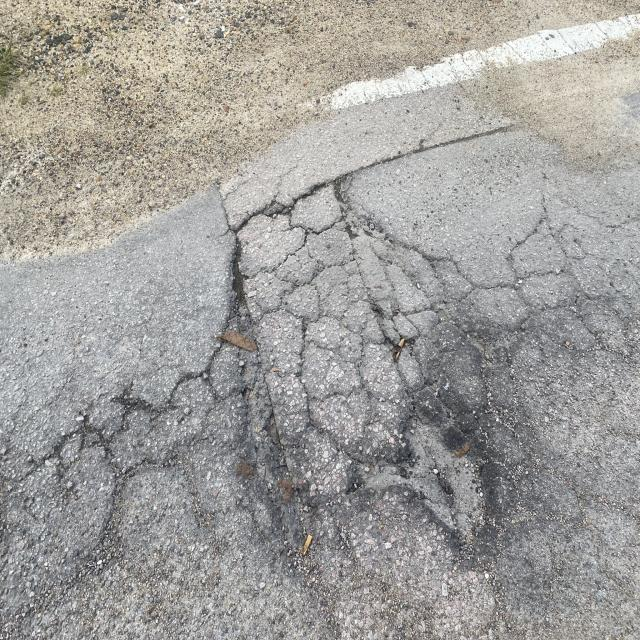Pothole: (183, 146, 516, 562)
